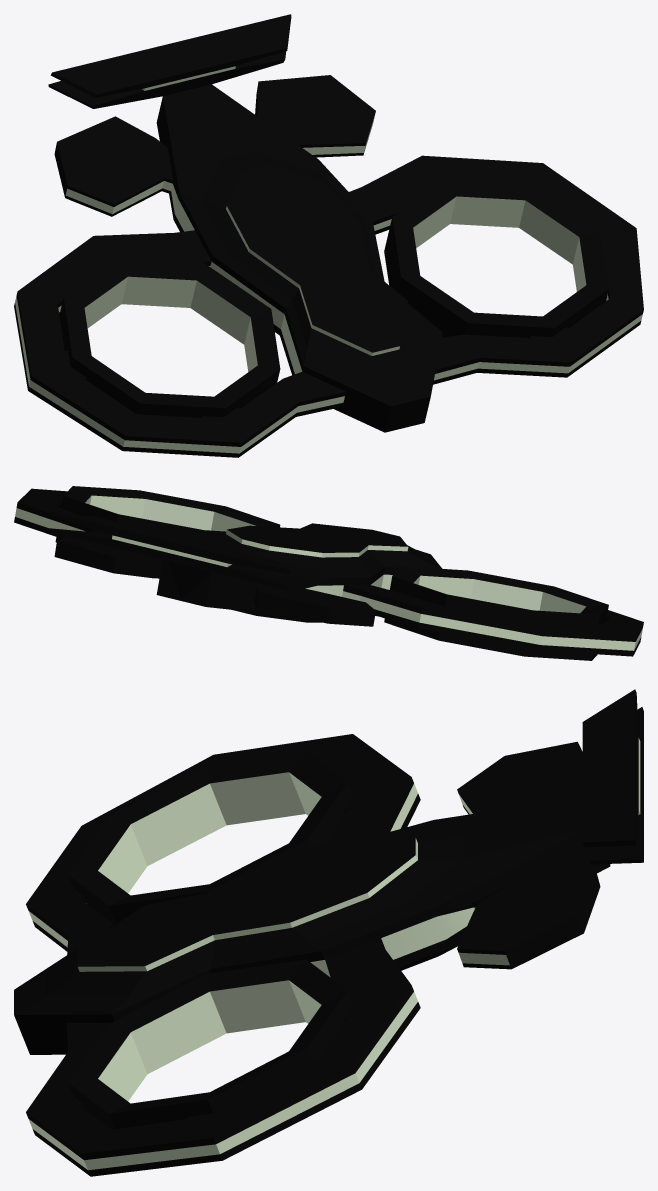
File: SM_CYBER_Drone_C.fbx
3 renders of one model, top to bottom at view 1: azimuth 30°, elevation 25°; view 2: azimuth 150°, elevation 25°; view 3: azimuth 270°, elevation 25°, orthographic. The views are drawn at different scales.
Parts seen in each view (by area): view 1: SM_CYBER_Drone_C; view 2: SM_CYBER_Drone_C; view 3: SM_CYBER_Drone_C.
Part boxes in pixels (<box>): SM_CYBER_Drone_C: <box>14,14,643,457</box>; SM_CYBER_Drone_C: <box>14,486,643,660</box>; SM_CYBER_Drone_C: <box>14,689,643,1176</box>.
Bounding box in the file's own units: 0.1807 × 0.0612 × 0.1255.
